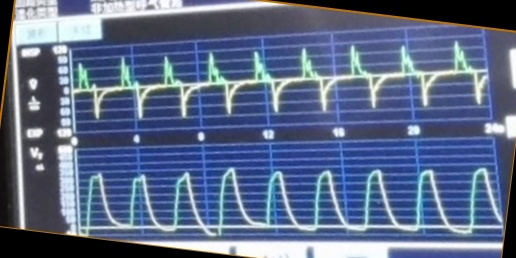Accumulation Flow: (74, 42, 488, 120)
Volume: (85, 166, 502, 238)
